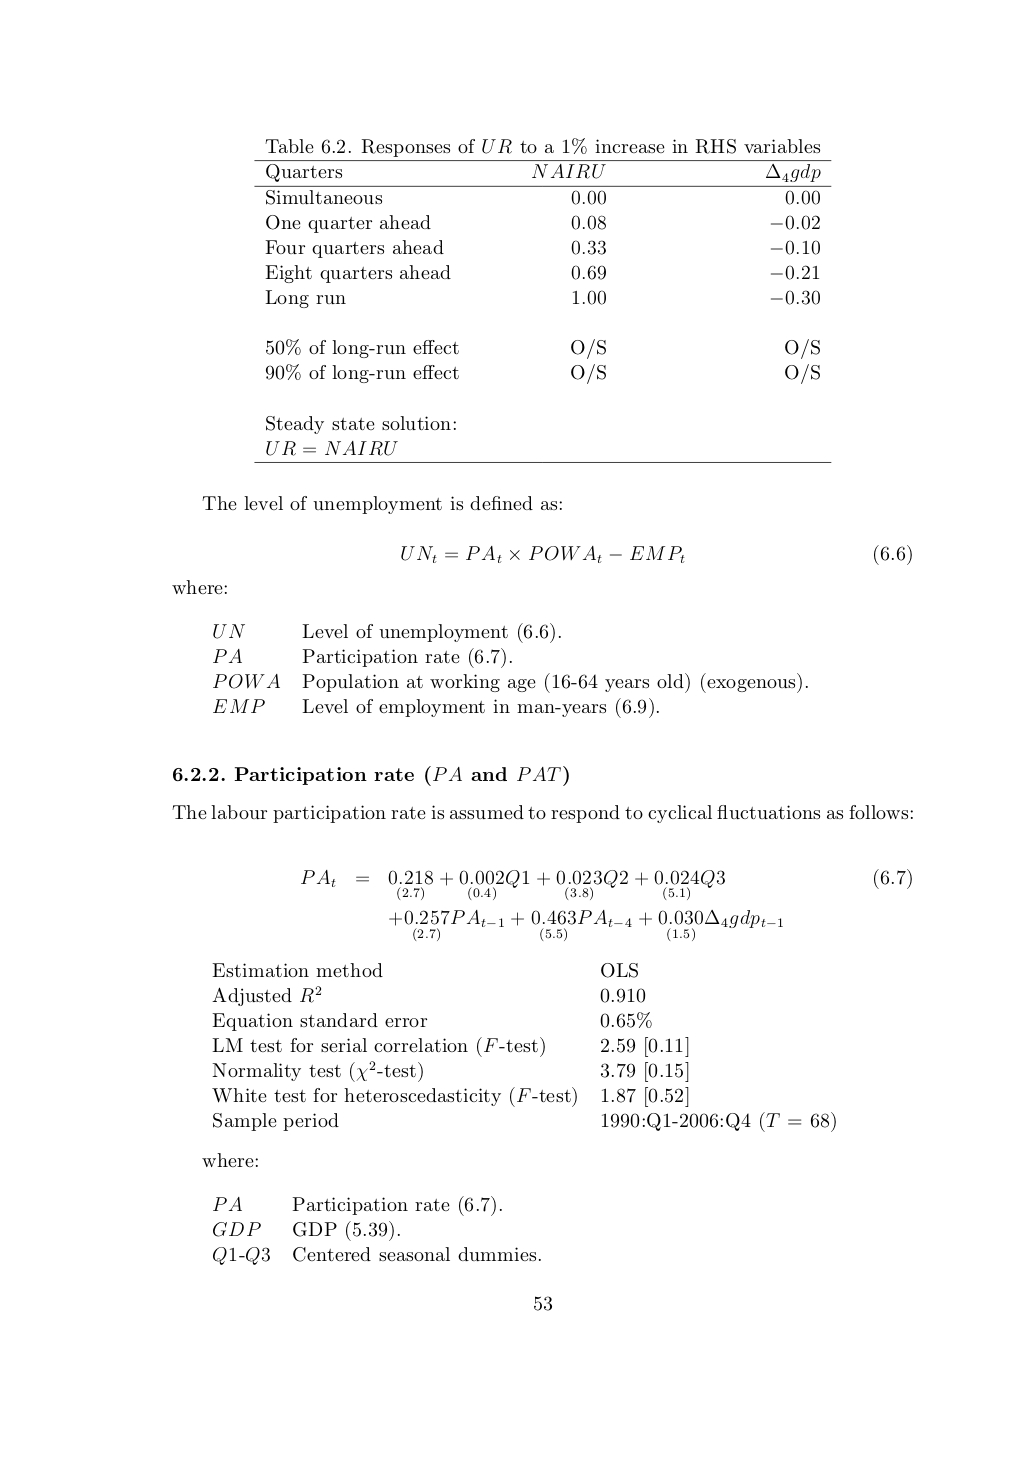Table: (254, 160, 831, 462), (212, 963, 835, 1131)
formula: (302, 868, 911, 901), (389, 908, 782, 942), (401, 544, 911, 565)
